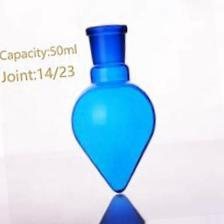Pear shaped flask: (63, 25, 160, 195)
